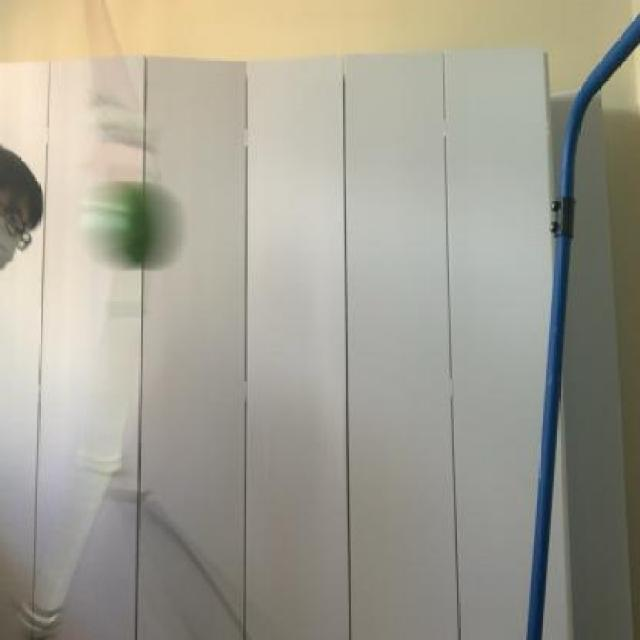baseball: (68, 171, 194, 275)
